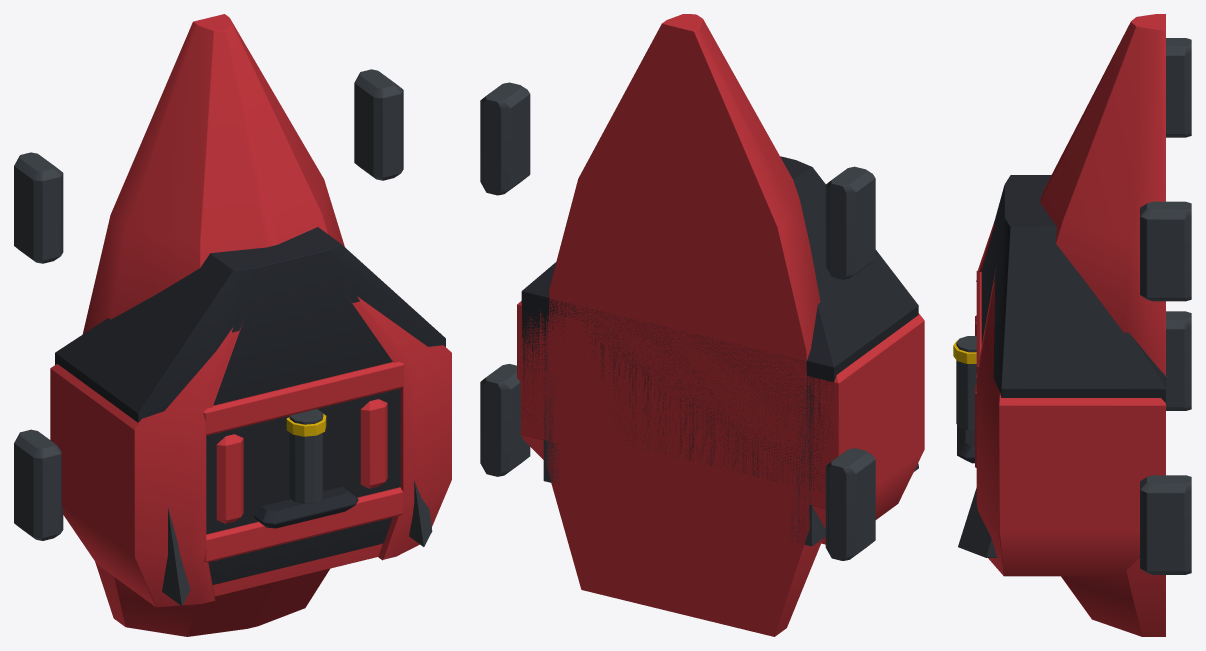
File: CalfFront_Set08_Goliath.fbx
The picture shows the model from 3 angles, left to right: view 1: azimuth 30°, elevation 25°; view 2: azimuth 150°, elevation 25°; view 3: azimuth 270°, elevation 25°; orthographic projection. The views are drawn at different scales.
Parts seen in each view (by area): view 1: CalfFront_Set08_Goliath; view 2: CalfFront_Set08_Goliath; view 3: CalfFront_Set08_Goliath.
Part boxes in pixels (x1,y1,x2,y2): CalfFront_Set08_Goliath: (14, 14, 451, 636); CalfFront_Set08_Goliath: (480, 14, 924, 636); CalfFront_Set08_Goliath: (953, 14, 1191, 636).
Bounding box in the file's own units: 0.49 × 0.73 × 0.2771.
